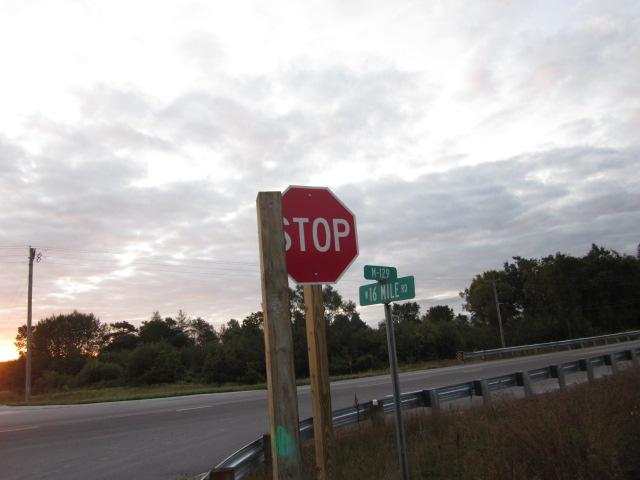stop: (271, 187, 360, 287)
